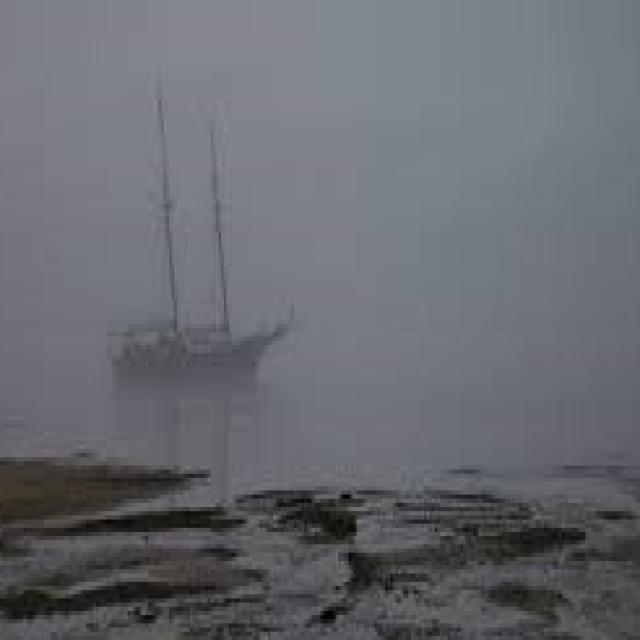fishing boat: (80, 81, 287, 380)
